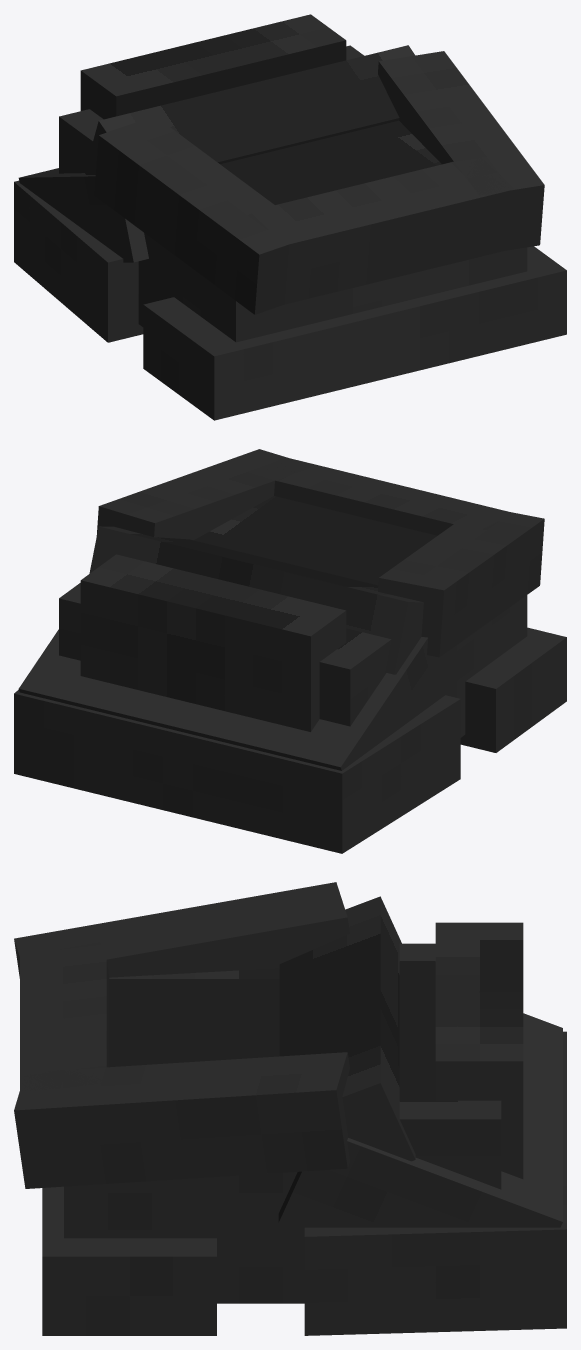
Rendered from maid_b_r.obj.
3 renders of one model, top to bottom at view 1: azimuth 30°, elevation 25°; view 2: azimuth 150°, elevation 25°; view 3: azimuth 270°, elevation 25°, orthographic. The views are drawn at different scales.
Visible parts, largest first — view 1: cube; view 2: cube; view 3: cube.
Part boxes in pixels (x1=…): cube: x1=14, y1=14, x2=566, y2=420; cube: x1=14, y1=449, x2=566, y2=853; cube: x1=14, y1=882, x2=566, y2=1335.
Size of the model in its own units: 0.3594 by 0.1931 by 0.3952.
